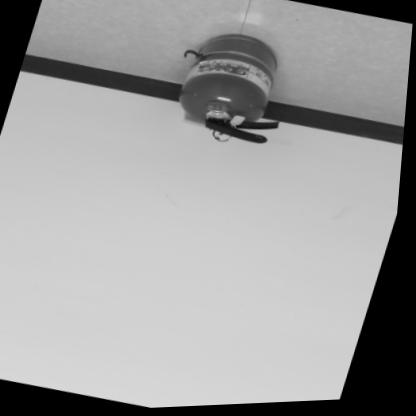FE: (174, 26, 308, 151)
